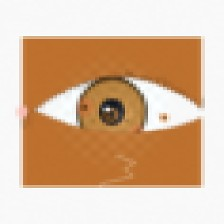foreign_body_visible: (70, 95, 99, 119)
